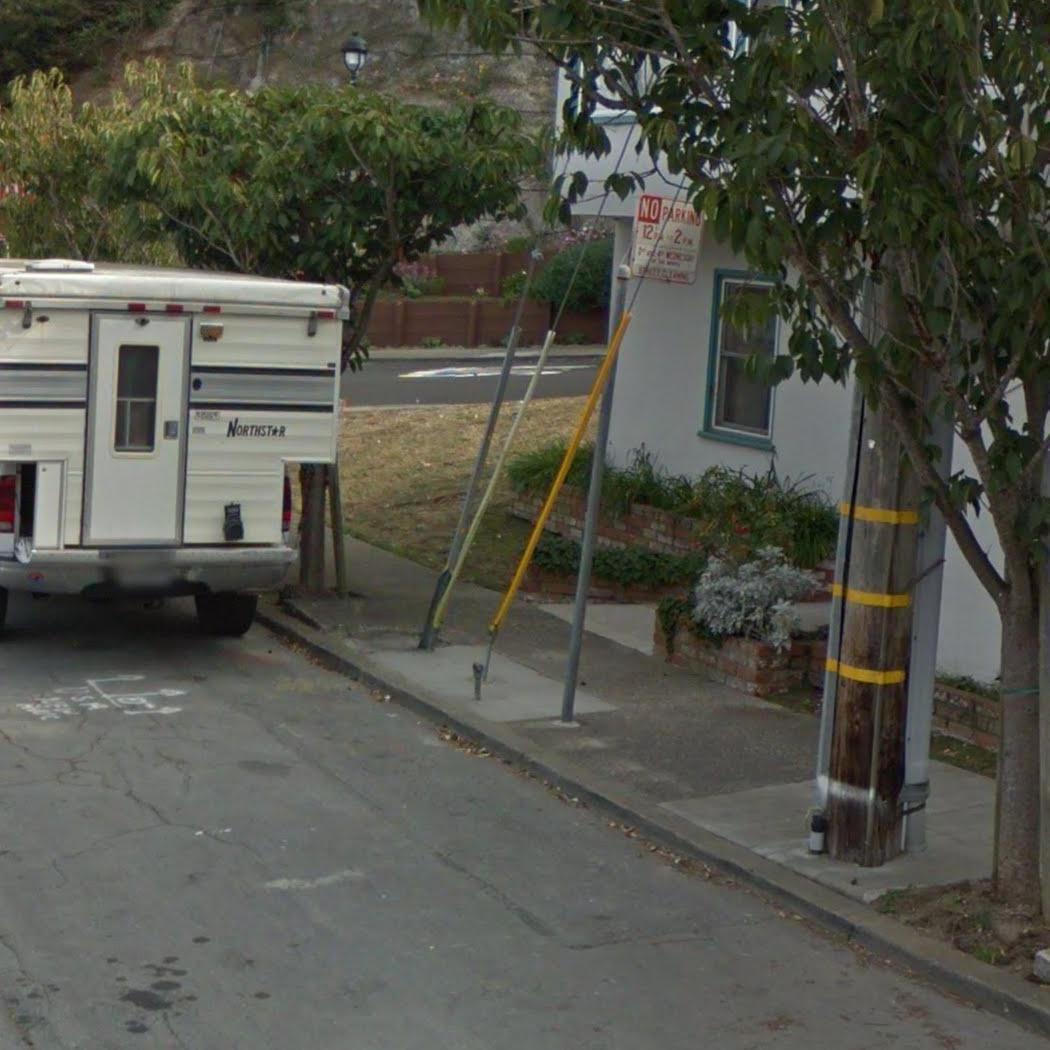No Parking: (626, 192, 711, 279)
